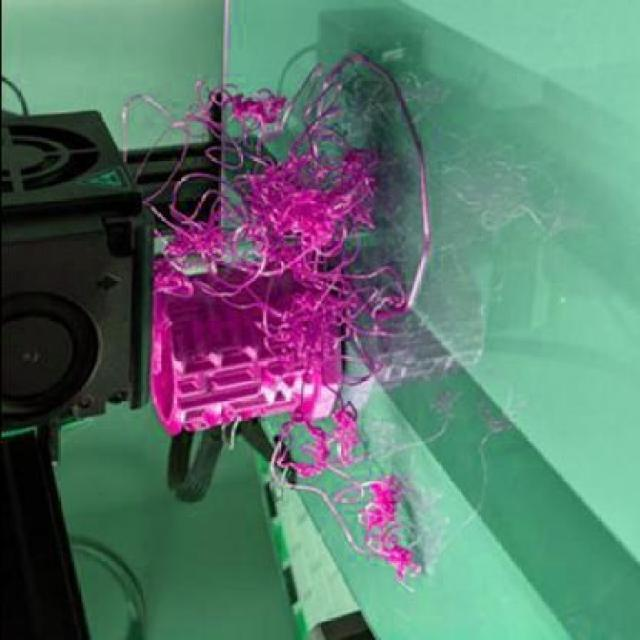spaghetti: (119, 52, 404, 360), (268, 369, 422, 591)
